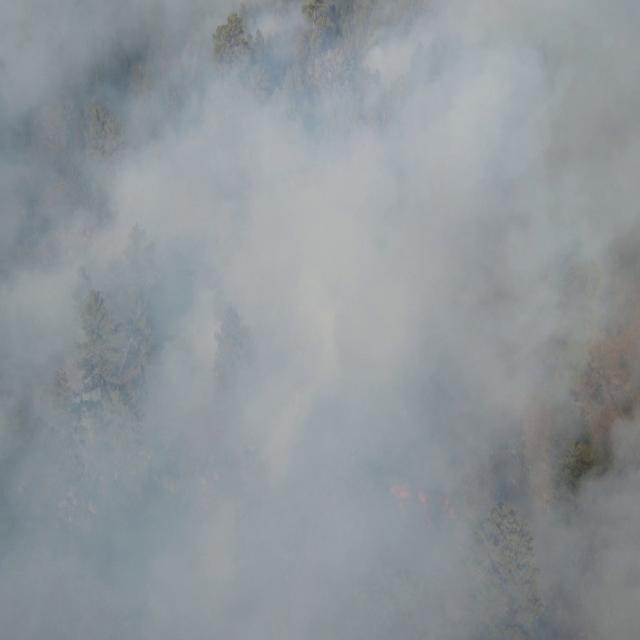fire: (388, 480, 413, 511), (440, 493, 460, 518), (417, 487, 431, 515)
smoke: (1, 0, 640, 640)
